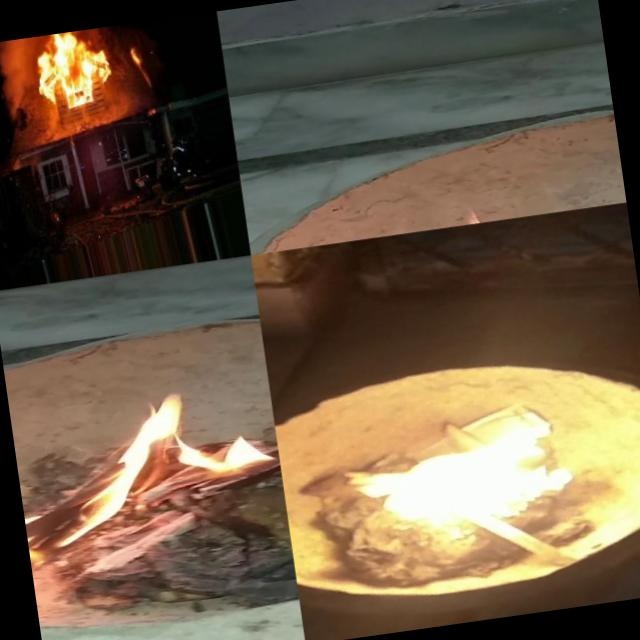fire: (10, 376, 293, 592), (343, 407, 631, 558), (32, 28, 113, 110), (129, 44, 145, 67)
smoke: (0, 38, 43, 122)
